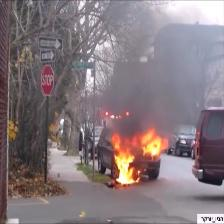fire: (111, 138, 161, 186)
smoke: (132, 59, 199, 132)
